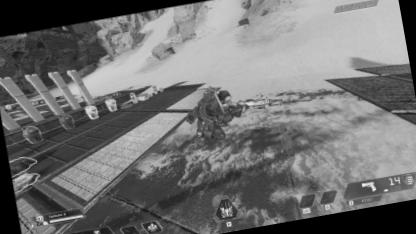Target: (182, 83, 244, 145)
